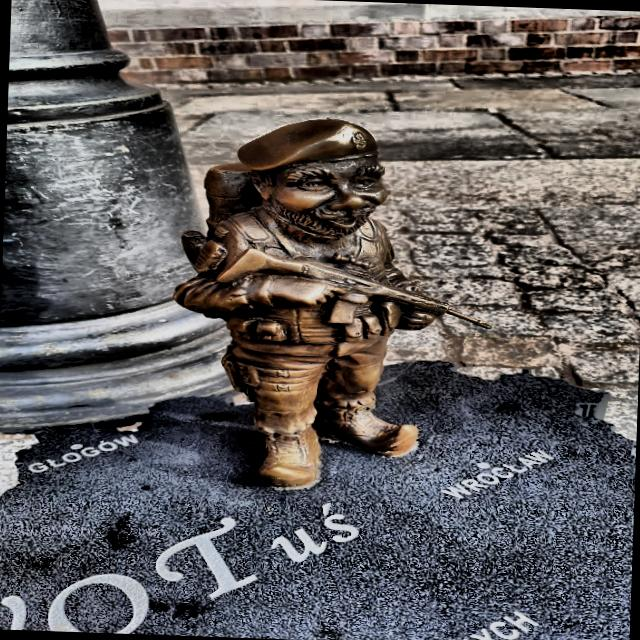WOTus: (174, 119, 489, 487)
